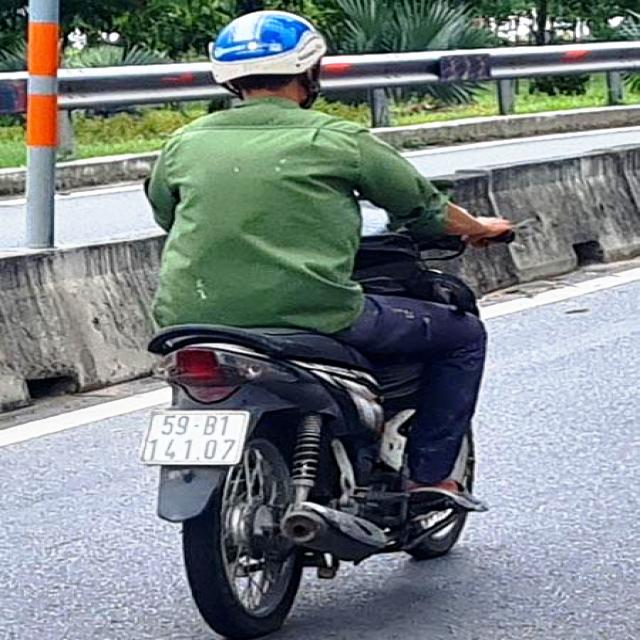license_plate: (144, 409, 254, 468)
